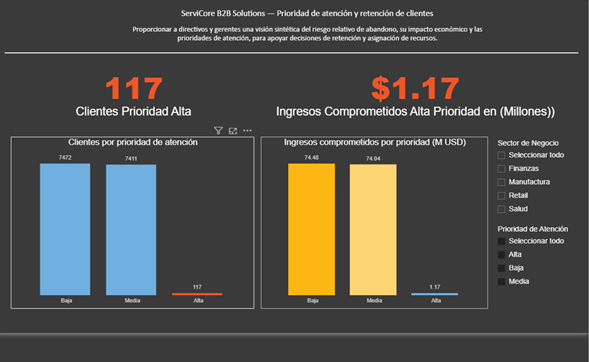

This screenshot's page, from the dashboard's own definition file:
{"tool":"powerbi","page":{"name":"Página 1","canvas":[1280,720],"ordinal":0},"visuals":[{"type":"textbox","box":[298.6,13.6,749.9,37],"z":0},{"type":"textbox","box":[276.2,50.6,795.6,66.1],"z":1},{"type":"shape","box":[20.4,106,1238.2,20.4],"z":2},{"type":"card","fields":{"Values":["servicore_churn_dashboard_powerbi.Clientes Prioridad Alta"]},"box":[111.7,126.2,373.1,149.7],"z":3},{"type":"card","fields":{"Values":["servicore_churn_dashboard_powerbi.Ingresos Comprometidos Alta Prioridad (M USD)"]},"box":[589.7,126.2,633.3,149.7],"z":4},{"type":"columnChart","title":"Clientes por prioridad de atención","fields":{"Category":["servicore_churn_dashboard_powerbi.Prioridad_Atencion"],"Y":["CountNonNull(servicore_churn_dashboard_powerbi.ID_Cliente)"]},"box":[33.5,297.1,525,370.8],"z":5},{"type":"columnChart","title":"Ingresos comprometidos por prioridad (M USD)","fields":{"Category":["servicore_churn_dashboard_powerbi.Prioridad_Atencion"],"Y":["Sum(servicore_churn_dashboard_powerbi.Ingresos_M_USD)"]},"box":[573,297.1,490.3,370.8],"z":6},{"type":"slicer","title":"Prioridad de atención","fields":{"Values":["servicore_churn_dashboard_powerbi.Prioridad_Atencion"]},"box":[1071.1,482.5,208.9,185.4],"z":7},{"type":"slicer","title":"Prioridad de atención","fields":{"Values":["servicore_churn_dashboard_powerbi.Sector_Negocio"]},"box":[1071.1,297.1,208.9,185.4],"z":8}]}

Visuals, with their boxes on the page's 1280x720 design canvas (x1, y1, x2, y2). These are canvas units, not pixel positions in the 589x362 screenshot, which may show the page scaled, cropped or inside an application window:
textbox: (299, 14, 1048, 51)
textbox: (276, 51, 1072, 117)
shape: (20, 106, 1259, 126)
card - servicore_churn_dashboard_powerbi.Clientes Prioridad Alta: (112, 126, 485, 276)
card - servicore_churn_dashboard_powerbi.Ingresos Comprometidos Alta Prioridad (M USD): (590, 126, 1223, 276)
"Clientes por prioridad de atención" columnChart: (34, 297, 558, 668)
"Ingresos comprometidos por prioridad (M USD)" columnChart: (573, 297, 1063, 668)
"Prioridad de atención" slicer: (1071, 482, 1280, 668)
"Prioridad de atención" slicer: (1071, 297, 1280, 482)
